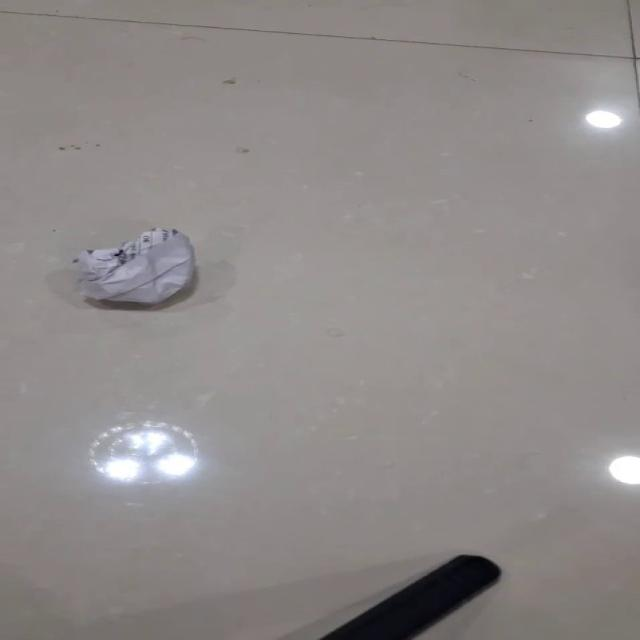paper: (72, 227, 194, 306)
